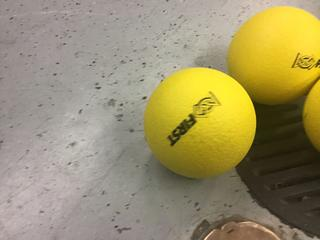power_cell: (142, 68, 261, 178), (232, 5, 320, 111)
